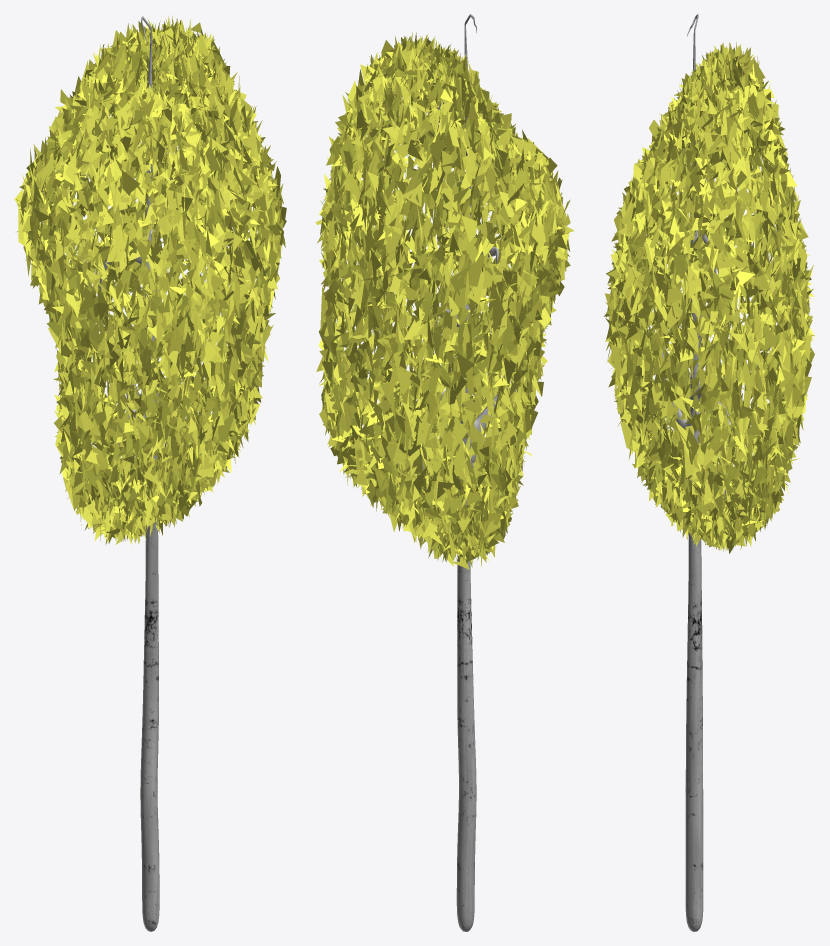
The model's file is Leaves14.001.fbx.
3 views of the same model, side by side, from view 1: azimuth 30°, elevation 25°; view 2: azimuth 150°, elevation 25°; view 3: azimuth 270°, elevation 25° (orthographic).
Parts seen in each view (by area): view 1: Leaves14.001; view 2: Leaves14.001; view 3: Leaves14.001.
Boxes of the visible parts, x1,y1,x2,y2 form: Leaves14.001: (14,16,286,931); Leaves14.001: (315,14,573,931); Leaves14.001: (604,14,815,931).
Bounding box in the file's own units: 739 × 2612 × 550.
Materials: 2 (1 with a texture image).
